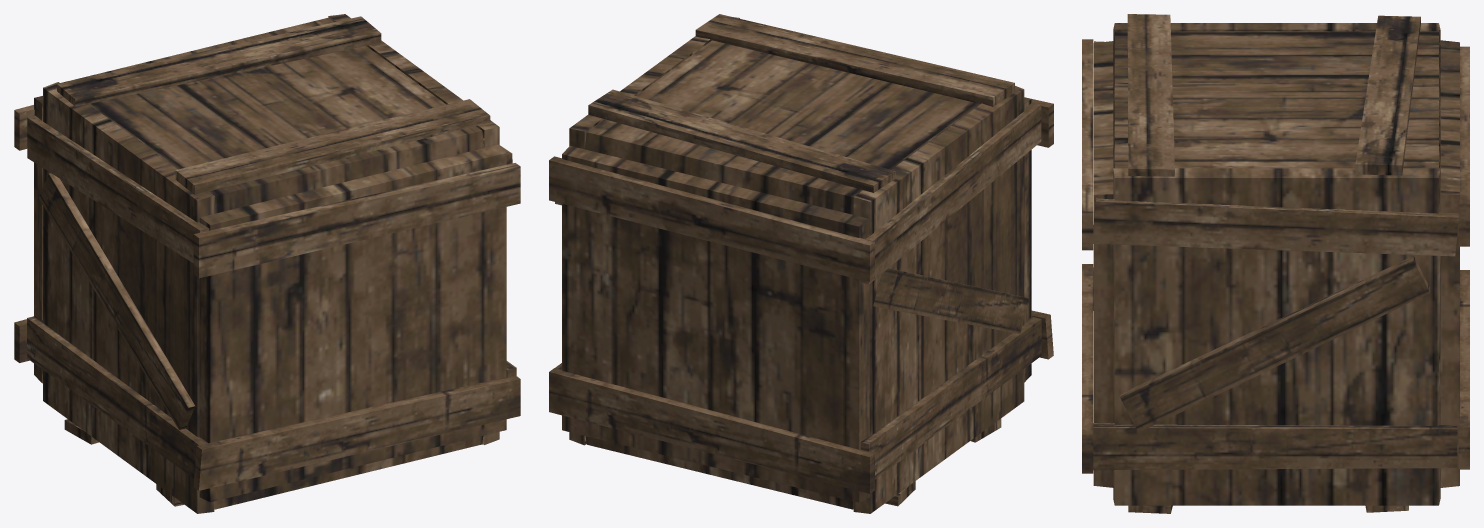
The model's file is Crate_v1.gltf.
3 views of the same model, side by side, from view 1: azimuth 30°, elevation 25°; view 2: azimuth 150°, elevation 25°; view 3: azimuth 270°, elevation 25° (orthographic). The views are drawn at different scales.
Visible parts, largest first — view 1: Crate_v1(Clone); view 2: Crate_v1(Clone); view 3: Crate_v1(Clone).
Boxes of the visible parts, left/top/right/bottom form: Crate_v1(Clone): left=14, top=14, right=520, bottom=513; Crate_v1(Clone): left=549, top=14, right=1053, bottom=513; Crate_v1(Clone): left=1082, top=14, right=1469, bottom=513.
Size of the model in its own units: 1.38 by 1.35 by 1.35.
Materials: 1 (1 with a texture image).
